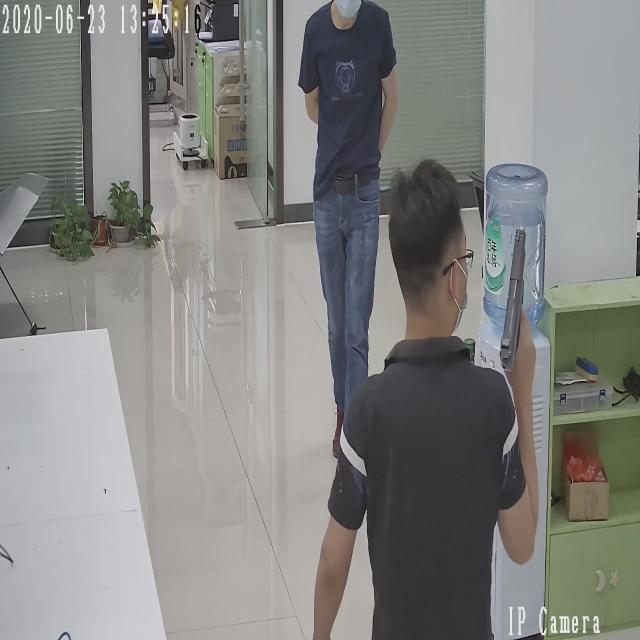gun-knife-thesis - v11 Yolov5 augmented: (497, 223, 539, 377)
